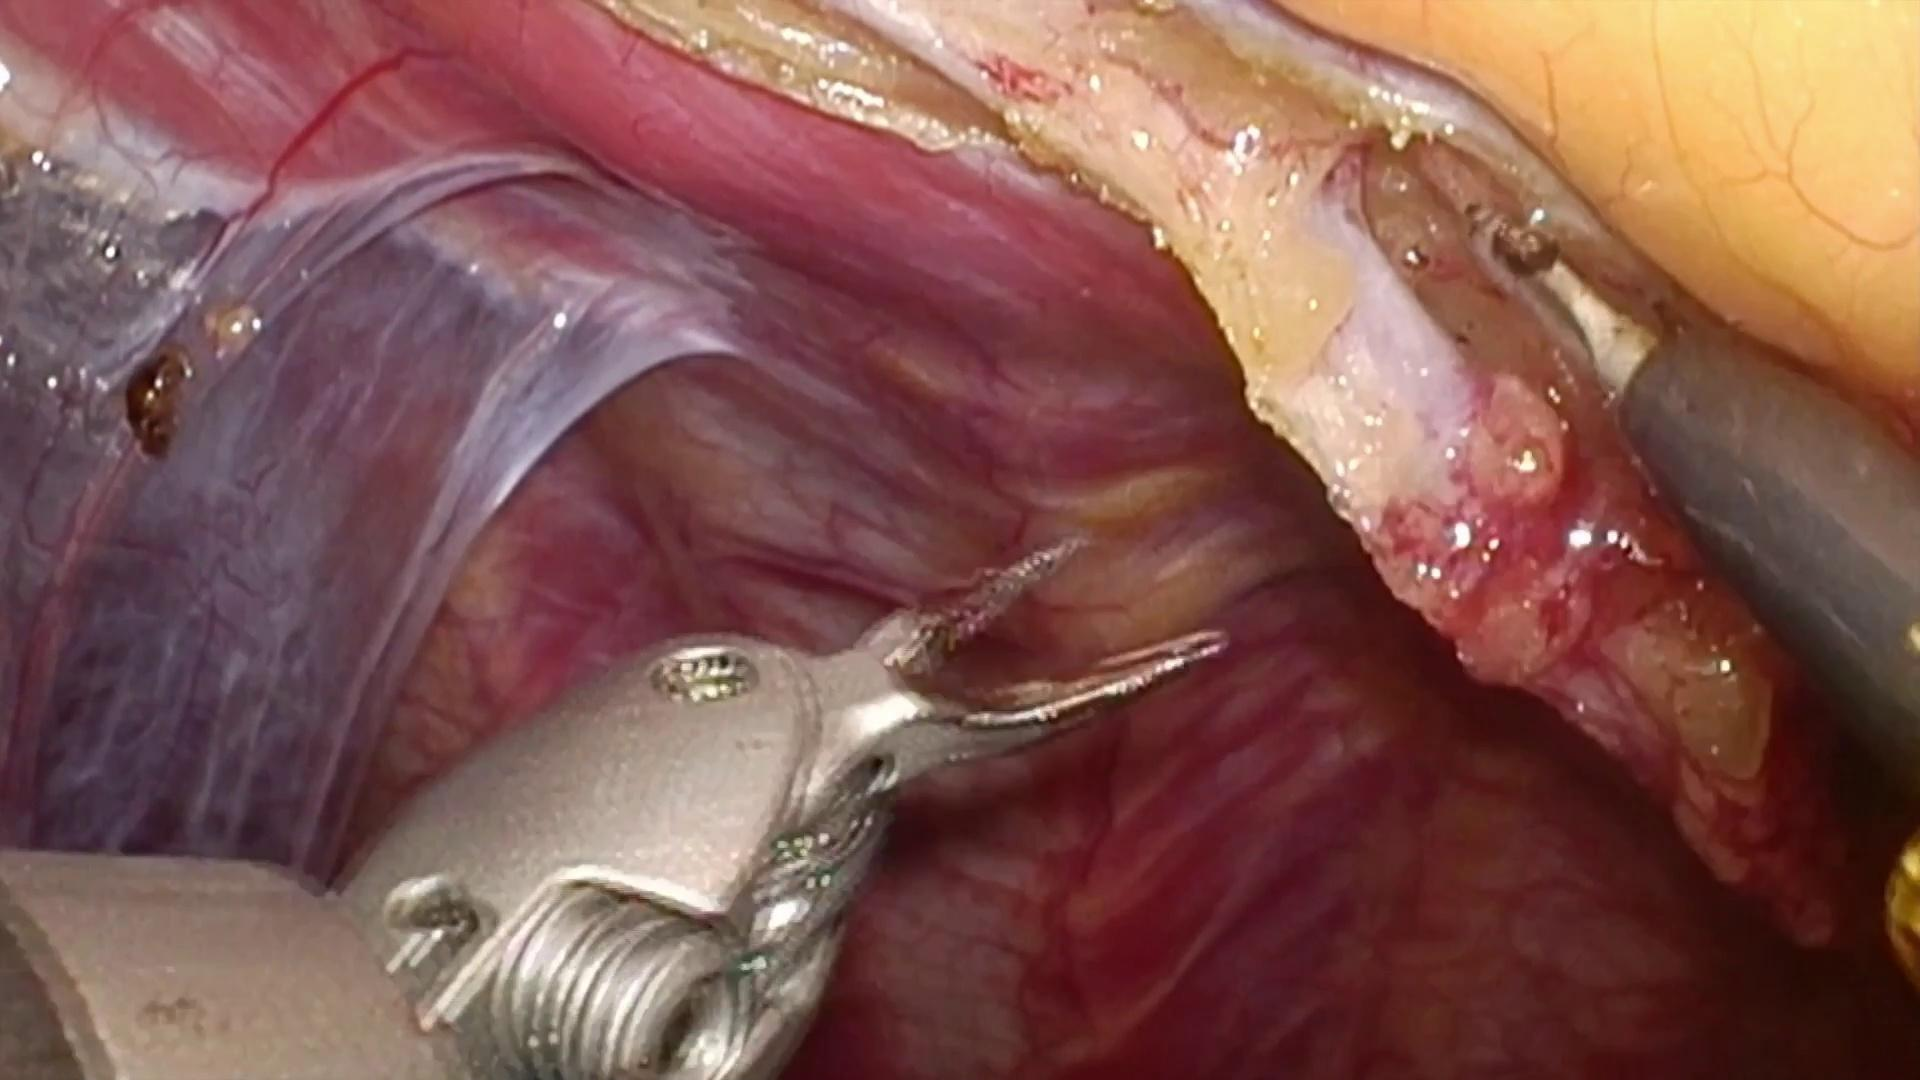Cautery_Spatula: (1464, 216, 1920, 816)
Debakey: (778, 517, 1238, 807)
